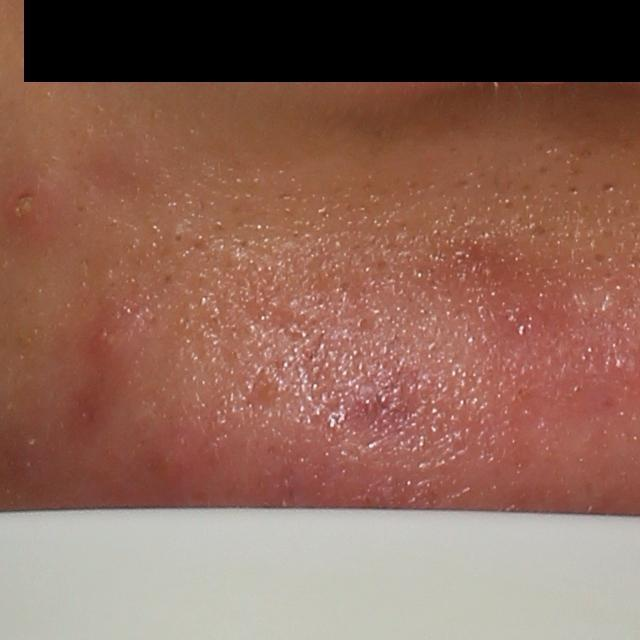comedo: (527, 221, 546, 242), (588, 249, 608, 267), (167, 229, 186, 247), (567, 185, 580, 196)
